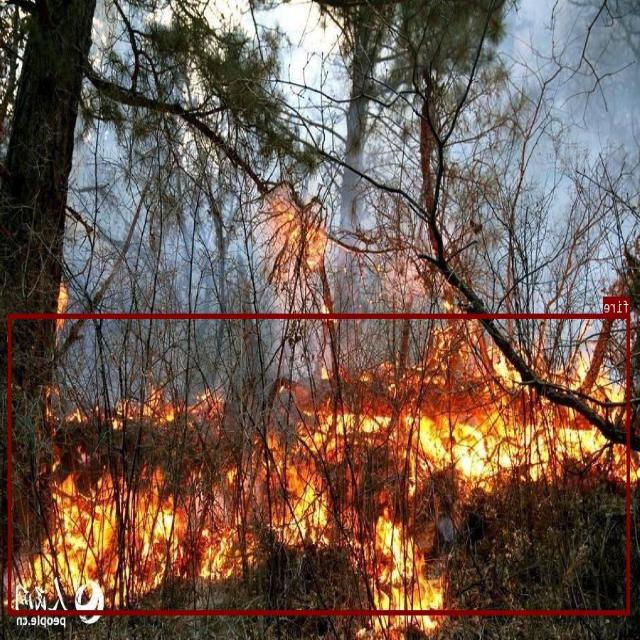fire: (9, 312, 630, 614)
